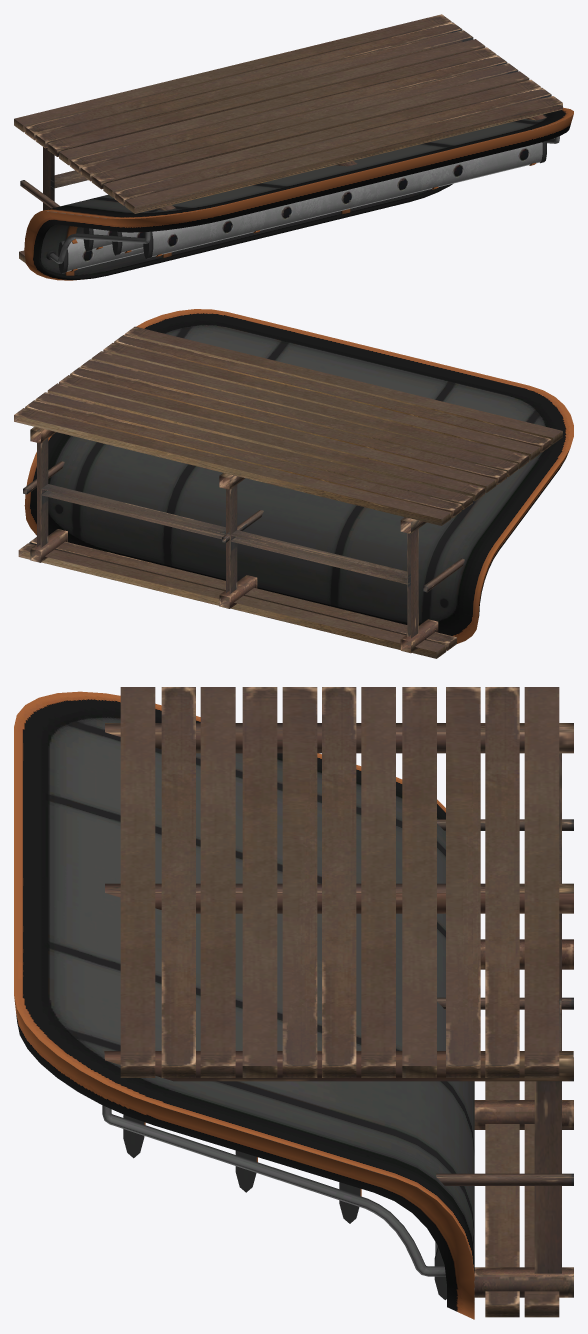
File: nt_hydro_cabbage_holders_LOD1.obj
The picture shows the model from 3 angles, top to bottom: view 1: azimuth 30°, elevation 25°; view 2: azimuth 150°, elevation 25°; view 3: azimuth 270°, elevation 25°; orthographic projection. The views are drawn at different scales.
Parts seen in each view (by area): view 1: mtl_p_jun_bench_wood_weathered01, mtl_nt_hydro_cabbage_holders, nt_2020_pipes_ceramic_holes; view 2: mtl_p_jun_bench_wood_weathered01, mtl_nt_hydro_cabbage_holders; view 3: mtl_p_jun_bench_wood_weathered01, mtl_nt_hydro_cabbage_holders, nt_2020_pipes_ceramic_holes.
Boxes of the visible parts, <box> form: mtl_p_jun_bench_wood_weathered01: <box>14,14,562,262</box>; mtl_nt_hydro_cabbage_holders: <box>24,107,573,280</box>; nt_2020_pipes_ceramic_holes: <box>58,141,546,273</box>; mtl_p_jun_bench_wood_weathered01: <box>14,326,562,658</box>; mtl_nt_hydro_cabbage_holders: <box>24,309,573,643</box>; mtl_p_jun_bench_wood_weathered01: <box>104,687,573,1317</box>; mtl_nt_hydro_cabbage_holders: <box>14,691,474,1319</box>; nt_2020_pipes_ceramic_holes: <box>123,1115,446,1299</box>.
Size of the model in its own units: 325 by 113 by 192.
